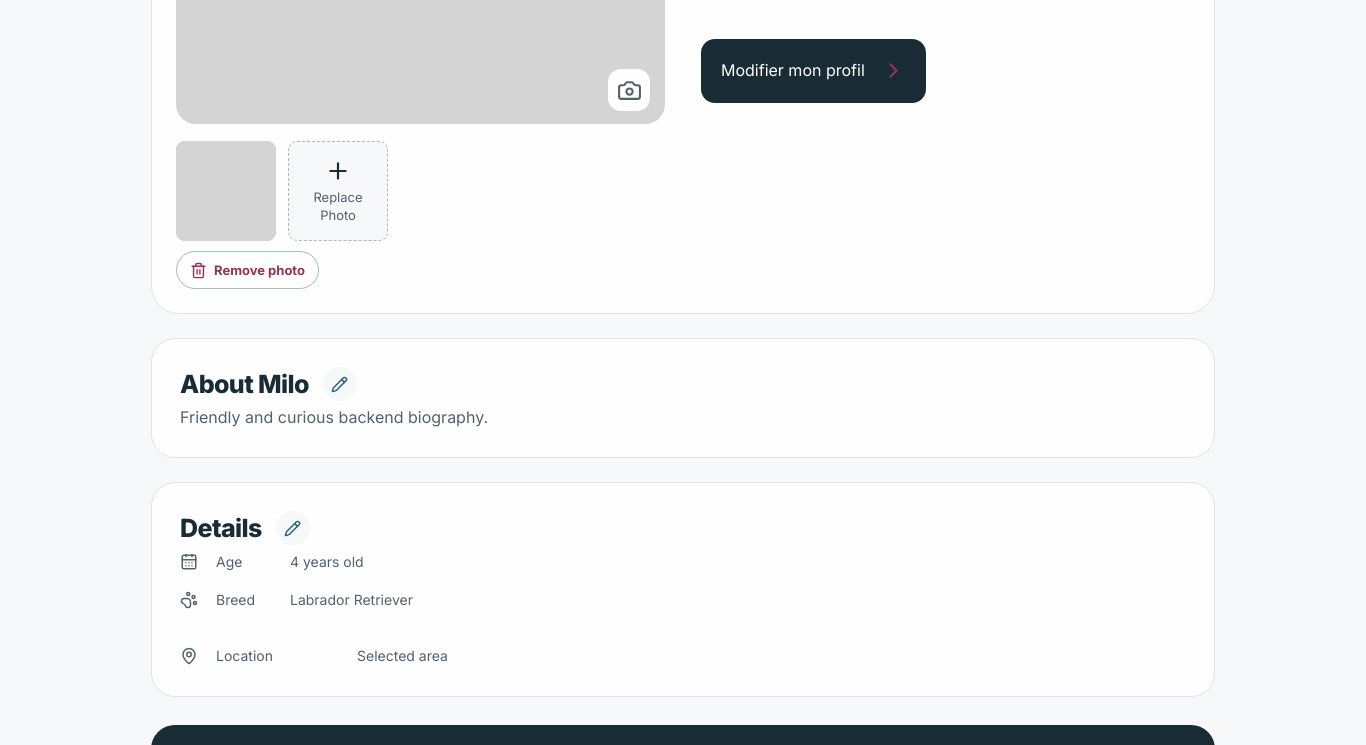
Test: Own pet profile › maps backend validation failures to edit controls
(page scrolled)
Click the button named "Edit pet biography": (340, 384) [323, 367, 357, 401]
(page scrolled)
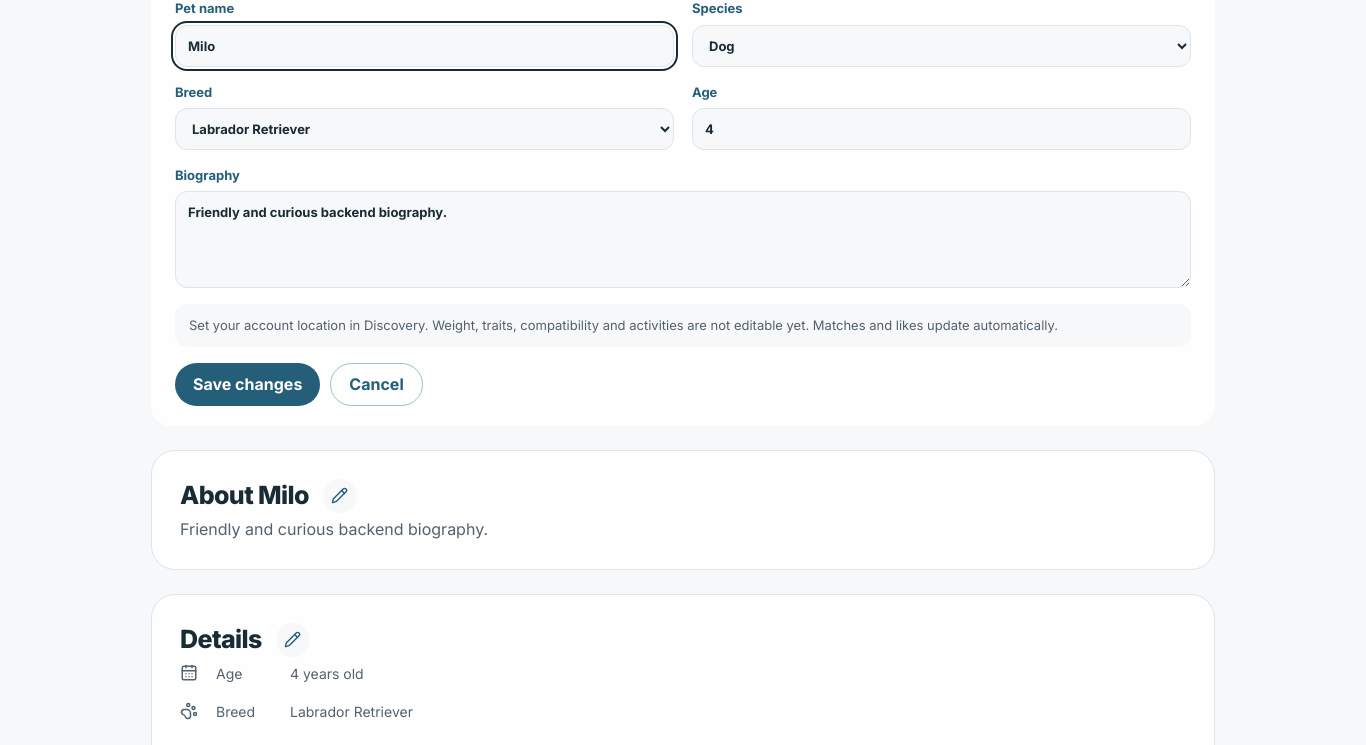
Click the button "Save changes": (248, 384) [175, 363, 320, 406]
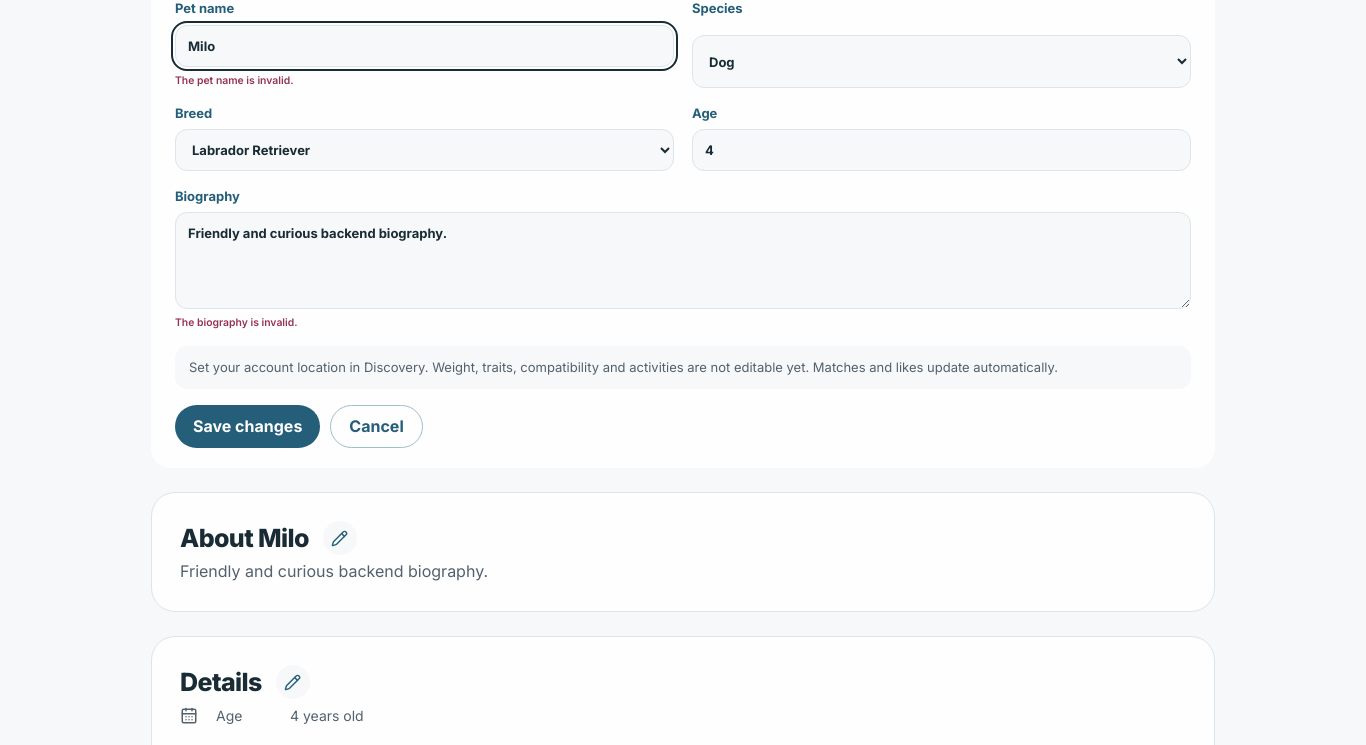
expect the text "The pet name is invalid." is shown: met, box [175, 74, 294, 87]
expect the text "The biography is invalid." is shown: met, box [175, 316, 298, 329]
